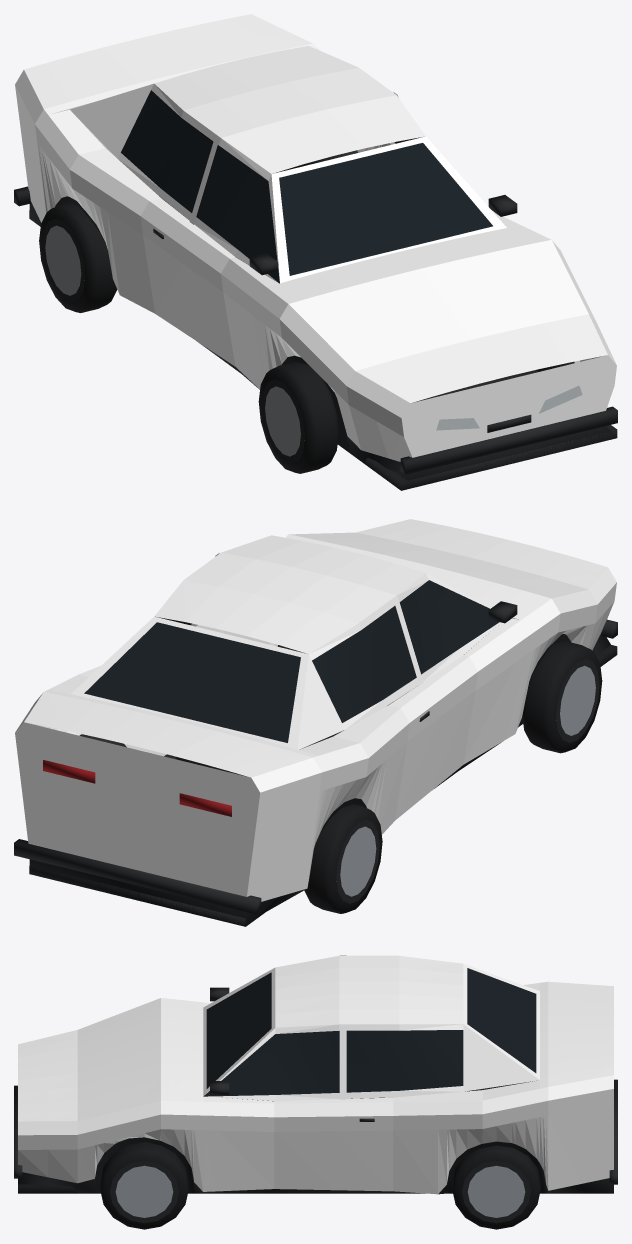
The model's file is rauhe_boleia.glb.
3 renders of one model, top to bottom at view 1: azimuth 30°, elevation 25°; view 2: azimuth 150°, elevation 25°; view 3: azimuth 270°, elevation 25°, orthographic. The views are drawn at different scales.
Parts seen in each view (by area): view 1: Body_Paint, Body_Details, Mount_FrontLeft_Wheel_Details, Mount_RearLeft_Wheel_Details; view 2: Body_Paint, Body_Details, Mount_FrontLeft_Wheel_Details, Mount_RearLeft_Wheel_Details; view 3: Body_Paint, Body_Details, Mount_FrontRight_Wheel_Details, Mount_RearRight_Wheel_Details.
Part boxes in pixels (x1=…): Body_Paint: x1=15, y1=14, x2=616, y2=461; Body_Details: x1=14, y1=90, x2=617, y2=490; Mount_FrontLeft_Wheel_Details: x1=258, y1=361, x2=338, y2=473; Mount_RearLeft_Wheel_Details: x1=39, y1=202, x2=117, y2=312; Body_Paint: x1=15, y1=519, x2=616, y2=901; Body_Details: x1=14, y1=580, x2=617, y2=926; Mount_FrontLeft_Wheel_Details: x1=522, y1=640, x2=602, y2=753; Mount_RearLeft_Wheel_Details: x1=304, y1=804, x2=382, y2=913; Body_Paint: x1=18, y1=955, x2=613, y2=1194; Body_Details: x1=14, y1=968, x2=617, y2=1194; Mount_FrontRight_Wheel_Details: x1=100, y1=1142, x2=188, y2=1229; Mount_RearRight_Wheel_Details: x1=452, y1=1145, x2=540, y2=1229.
Bounding box in the file's own units: 1.84 × 1.37 × 4.01.
Materials: 2 (1 with a texture image).
